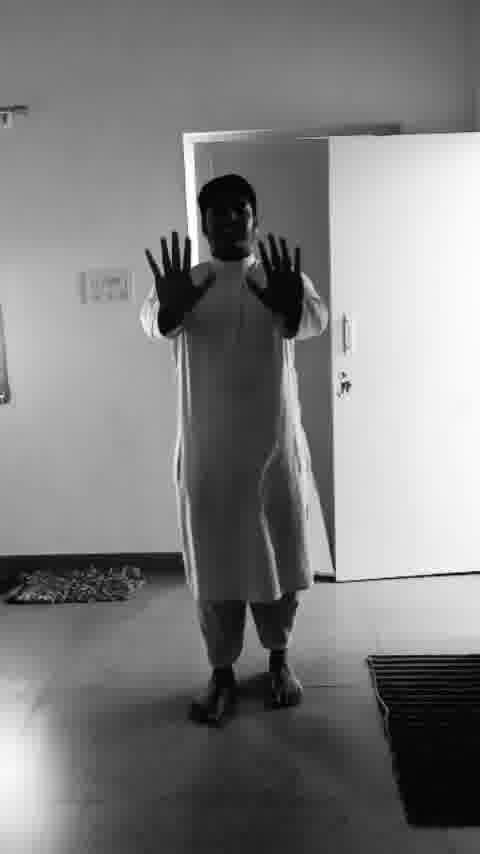duck: (132, 168, 369, 722)
